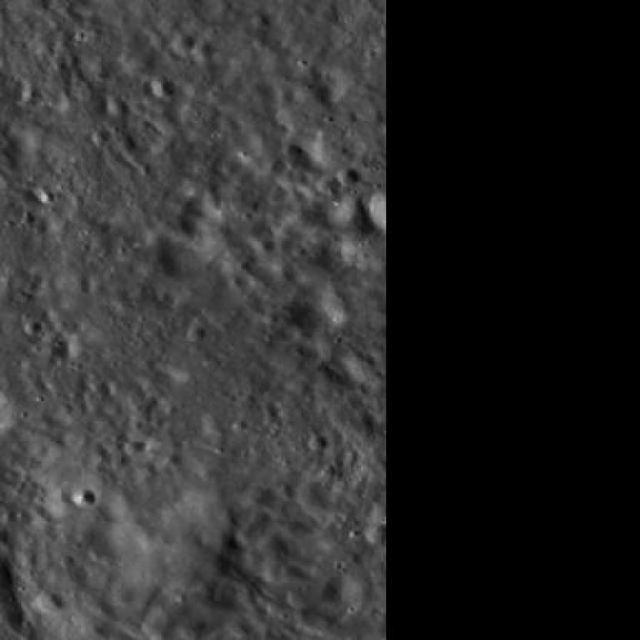crater: (44, 489, 80, 518), (240, 481, 272, 507), (343, 578, 374, 604), (176, 615, 207, 640), (257, 532, 286, 556), (126, 52, 154, 76), (364, 520, 392, 543), (35, 590, 63, 613), (172, 33, 196, 55), (74, 488, 98, 510), (286, 584, 311, 604), (152, 76, 176, 96), (317, 174, 340, 194), (112, 586, 134, 606), (338, 167, 360, 186), (124, 438, 146, 457), (256, 240, 276, 258), (108, 99, 128, 116), (194, 42, 214, 59), (188, 324, 206, 342), (266, 158, 285, 175), (308, 436, 328, 452)
